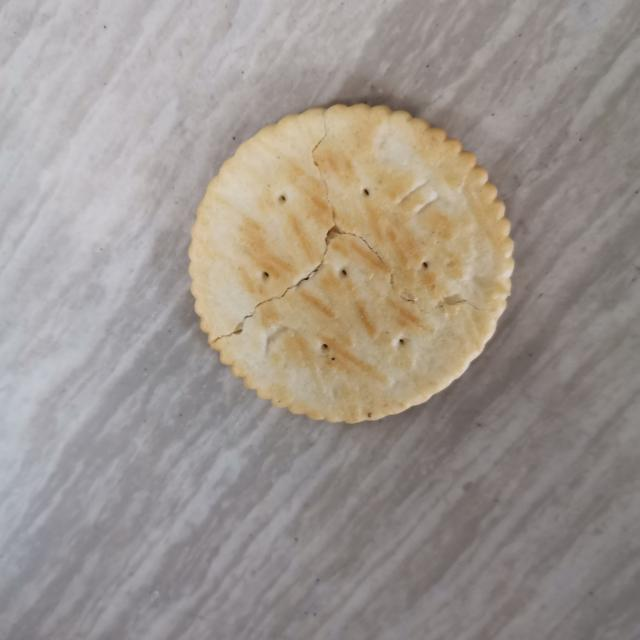Fracture: (206, 106, 509, 364)
